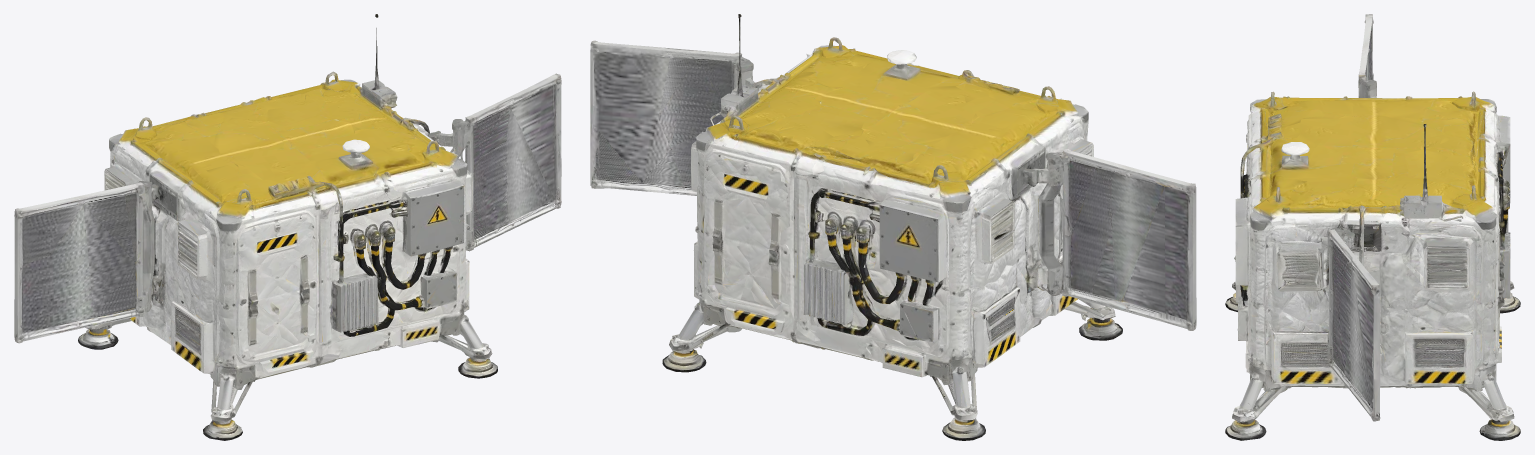
The model's file is moon-power.glb.
3 views of the same model, side by side, from view 1: azimuth 30°, elevation 25°; view 2: azimuth 150°, elevation 25°; view 3: azimuth 270°, elevation 25° (orthographic). The views are drawn at different scales.
Parts seen in each view (by area): view 1: Mesh_0; view 2: Mesh_0; view 3: Mesh_0.
Part boxes in pixels (box(x1,y1,x2,y2)): Mesh_0: box(14, 14, 561, 440); Mesh_0: box(590, 14, 1196, 440); Mesh_0: box(1225, 14, 1520, 440).
Size of the model in its own units: 1.9 by 0.9771 by 0.8672.
1 material, 1 textured.
